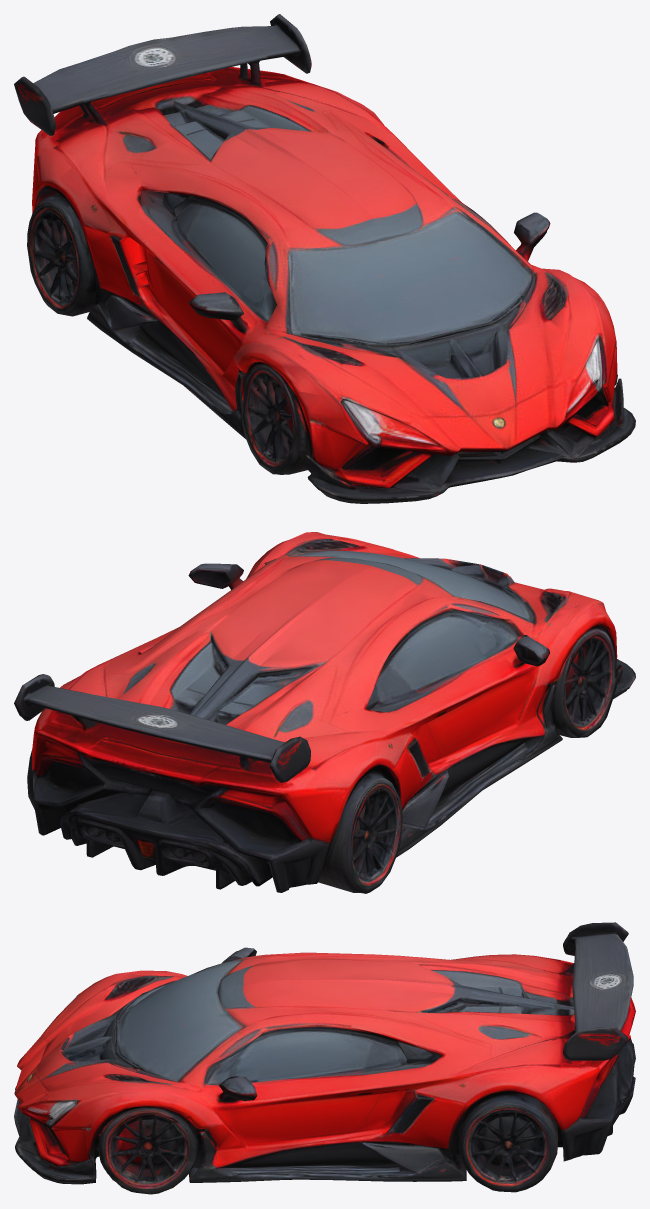
File: custom-racer-04.glb
3 renders of one model, top to bottom at view 1: azimuth 30°, elevation 25°; view 2: azimuth 150°, elevation 25°; view 3: azimuth 270°, elevation 25°, orthographic. The views are drawn at different scales.
Parts seen in each view (by area): view 1: custom-04-source-static-mesh; view 2: custom-04-source-static-mesh; view 3: custom-04-source-static-mesh.
Part boxes in pixels (box(x1,y1,x2,y2)): custom-04-source-static-mesh: box(14, 14, 635, 503); custom-04-source-static-mesh: box(14, 532, 635, 893); custom-04-source-static-mesh: box(14, 922, 635, 1194).
Bounding box in the file's own units: 2.67 × 1.31 × 4.8.
Materials: 1 (1 with a texture image).
